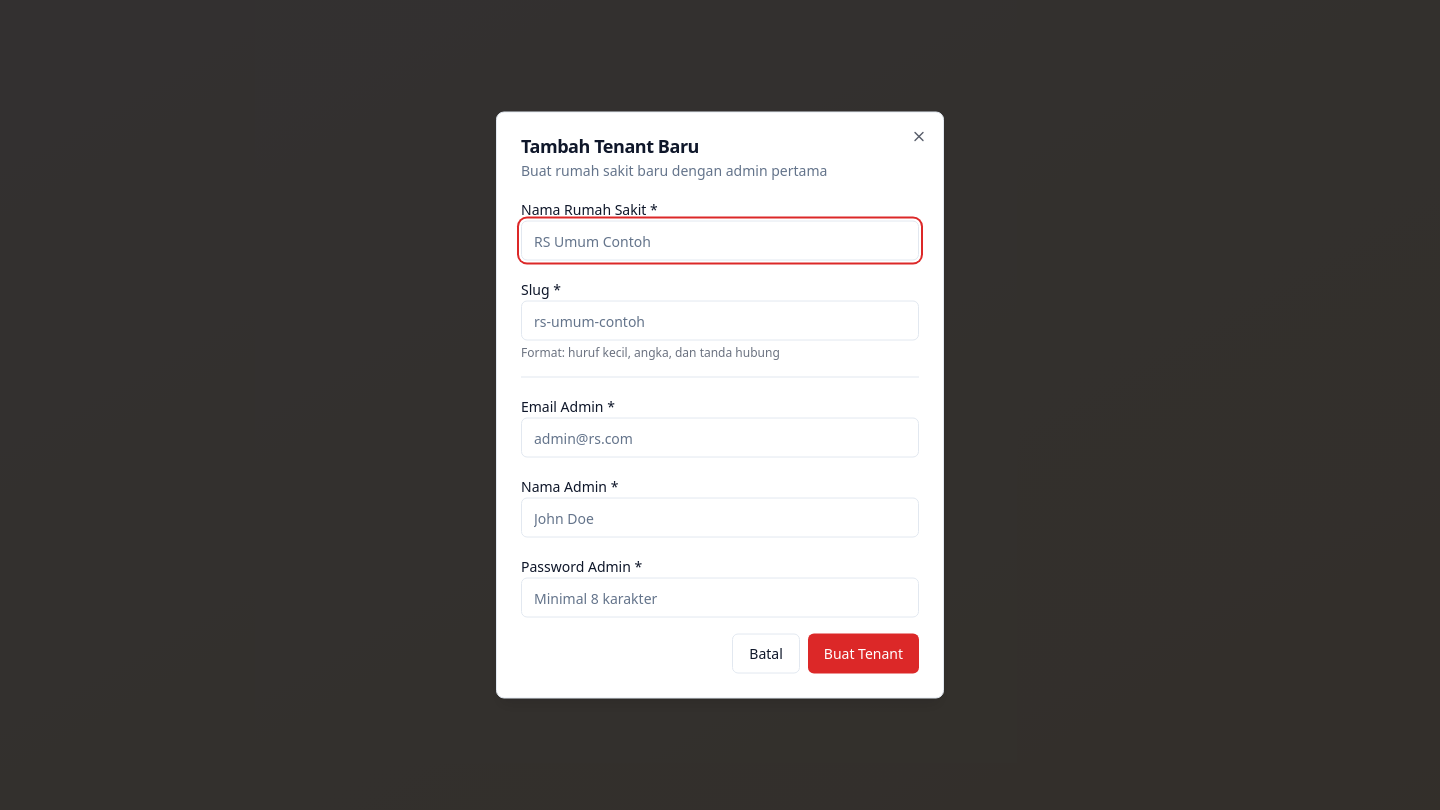
Test: CreateTenantDialog › should show validation errors for empty fields
The image size is (1440, 810).
Click the button "Buat Tenant": {"x": 863, "y": 654} [808, 634, 919, 674]
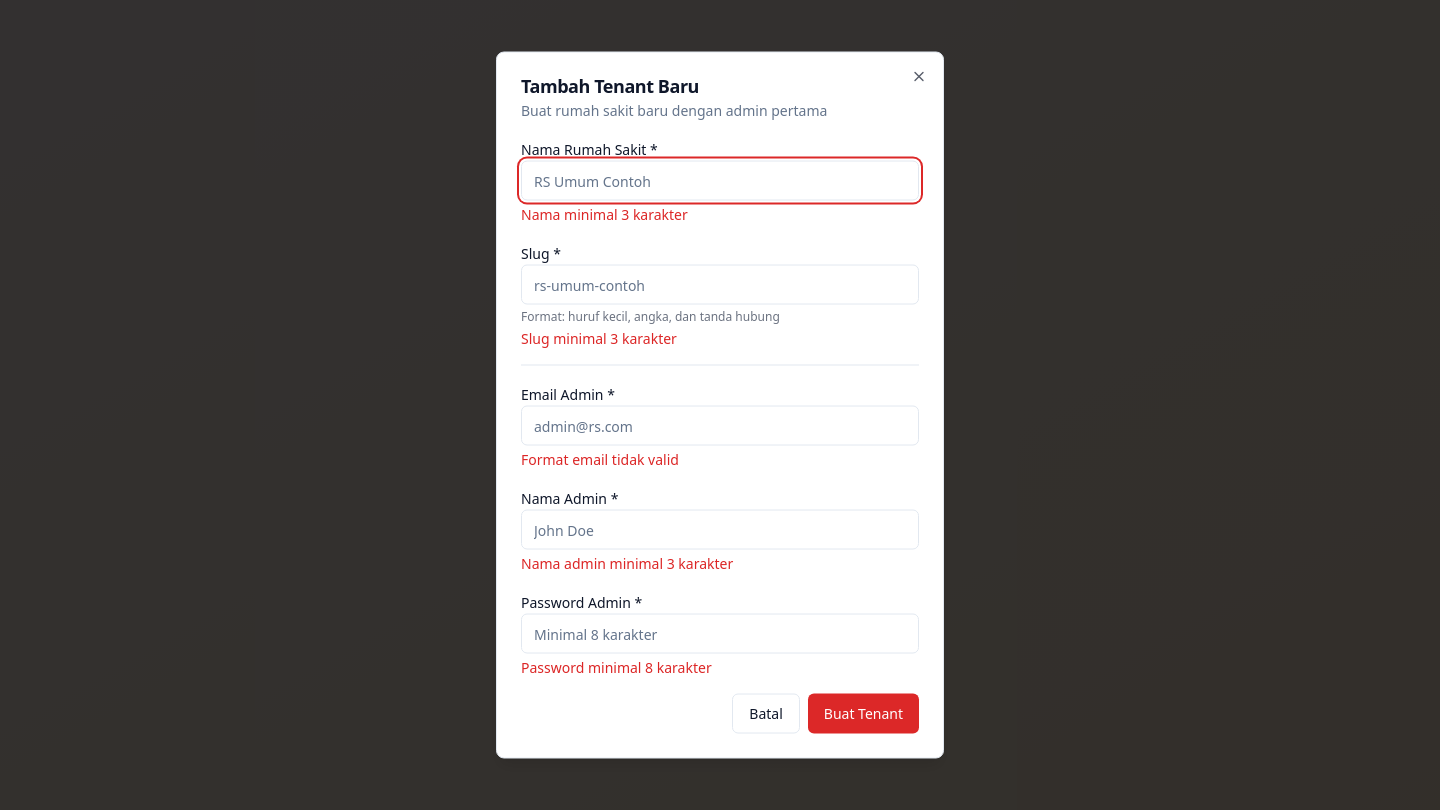
Expected: the text "Nama minimal 3 karakter" is shown, [521, 204, 688, 224]
